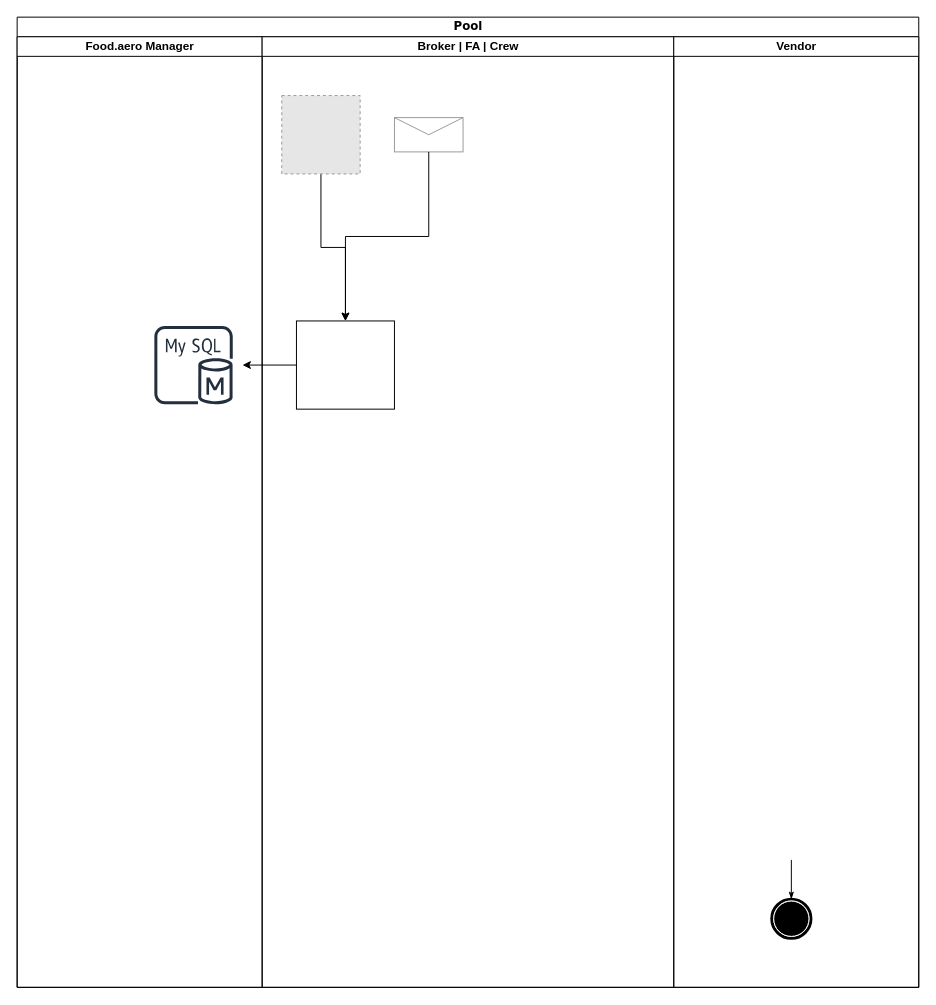
The diagram is 936 pixels wide and 1005 high, and some of its shapes have lost their labels. Grey dashed boxes stand in for pictures. Each missing label, with the centre of its shape:
MySQL DB instance: point (193, 364)
Object:request status = string.created amount = var.amount pax = string.: point (344, 364)
